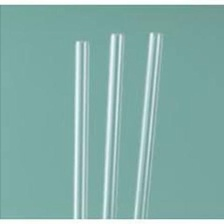drinking_straw: (130, 27, 169, 219), (64, 34, 96, 218), (98, 28, 127, 220)
